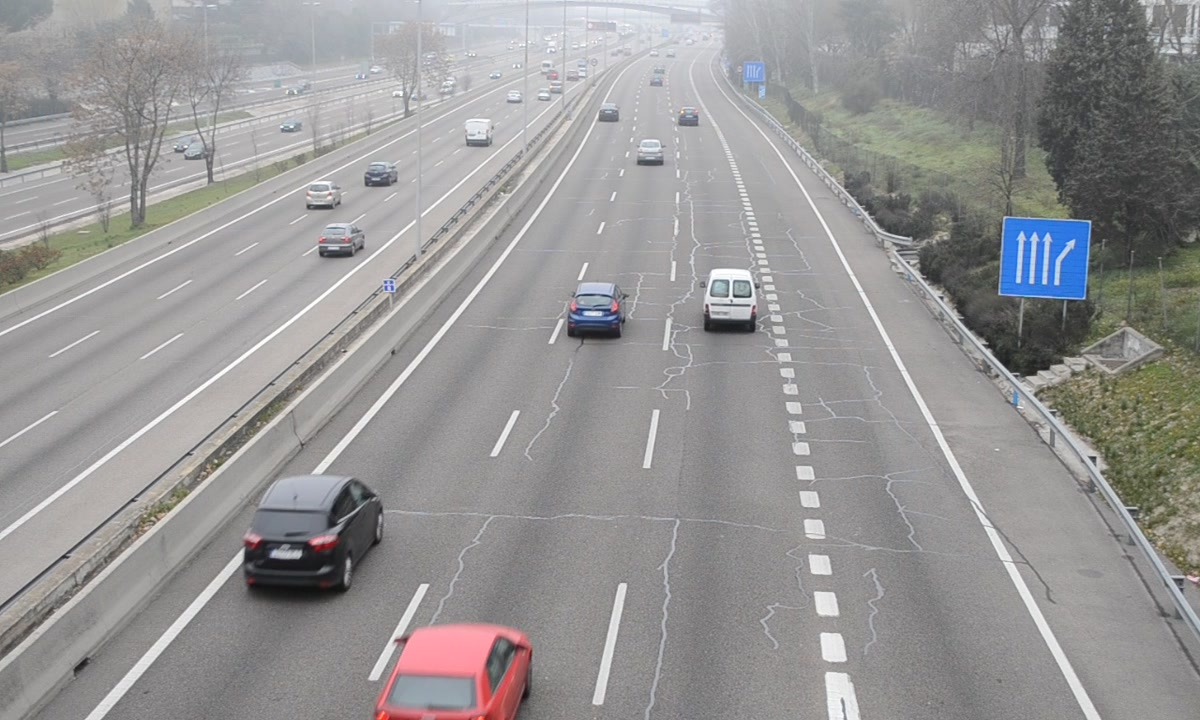car: (244, 476, 381, 592), (378, 625, 532, 720), (567, 283, 625, 335), (635, 139, 666, 164), (677, 106, 700, 128), (598, 101, 621, 123)
van: (704, 268, 759, 333)
